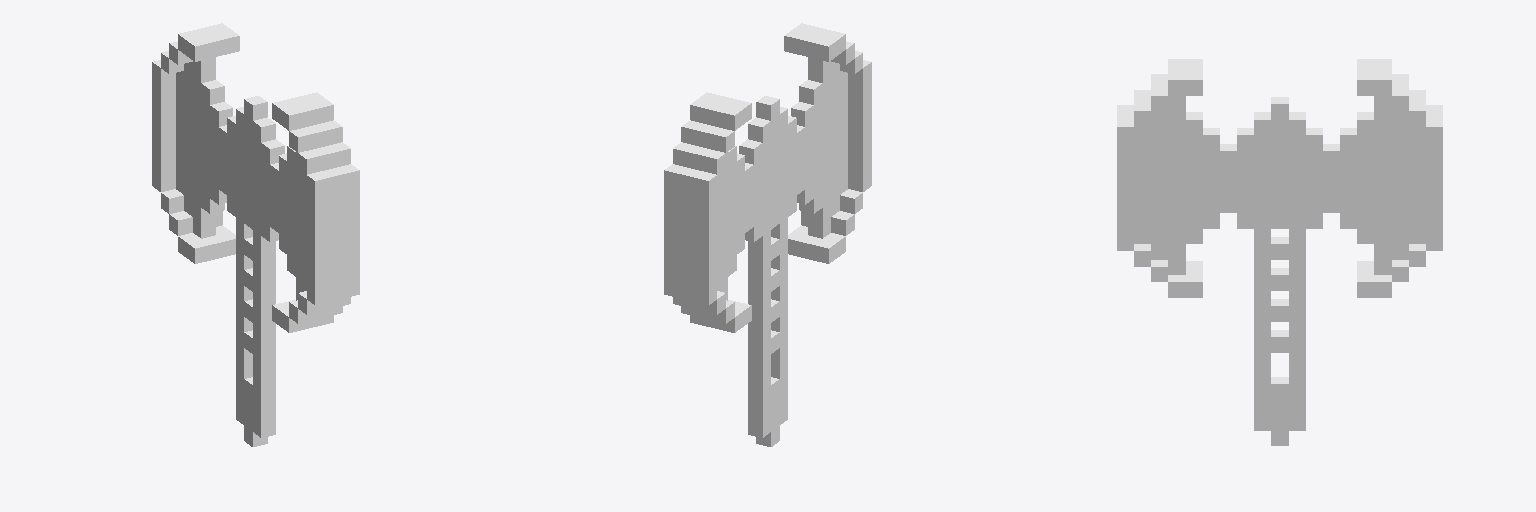
File: Axe_lvl2.obj
3 views of the same model, side by side, from view 1: azimuth 30°, elevation 25°; view 2: azimuth 150°, elevation 25°; view 3: azimuth 270°, elevation 25° (orthographic).
Visible parts, largest first — view 1: object 1; view 2: object 1; view 3: object 1.
Part boxes in pixels (x1,y1,x2,y2): object 1: (152, 23, 359, 446); object 1: (664, 23, 871, 446); object 1: (1117, 59, 1442, 445).
Size of the model in its own units: 0.3 by 2.4 by 1.9.